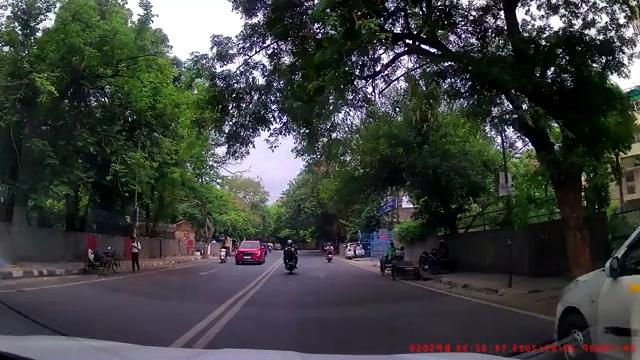motorcycle_with_helmet: (282, 237, 299, 274)
